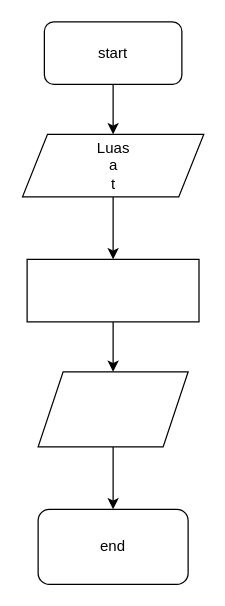
Image size: 225x606. Some labels were removed from this diagram. The centre of each missing label's shape, as x and y in pixels:
Luas: (x=112, y=409)
Luas=1/2 x a x t: (x=112, y=290)
